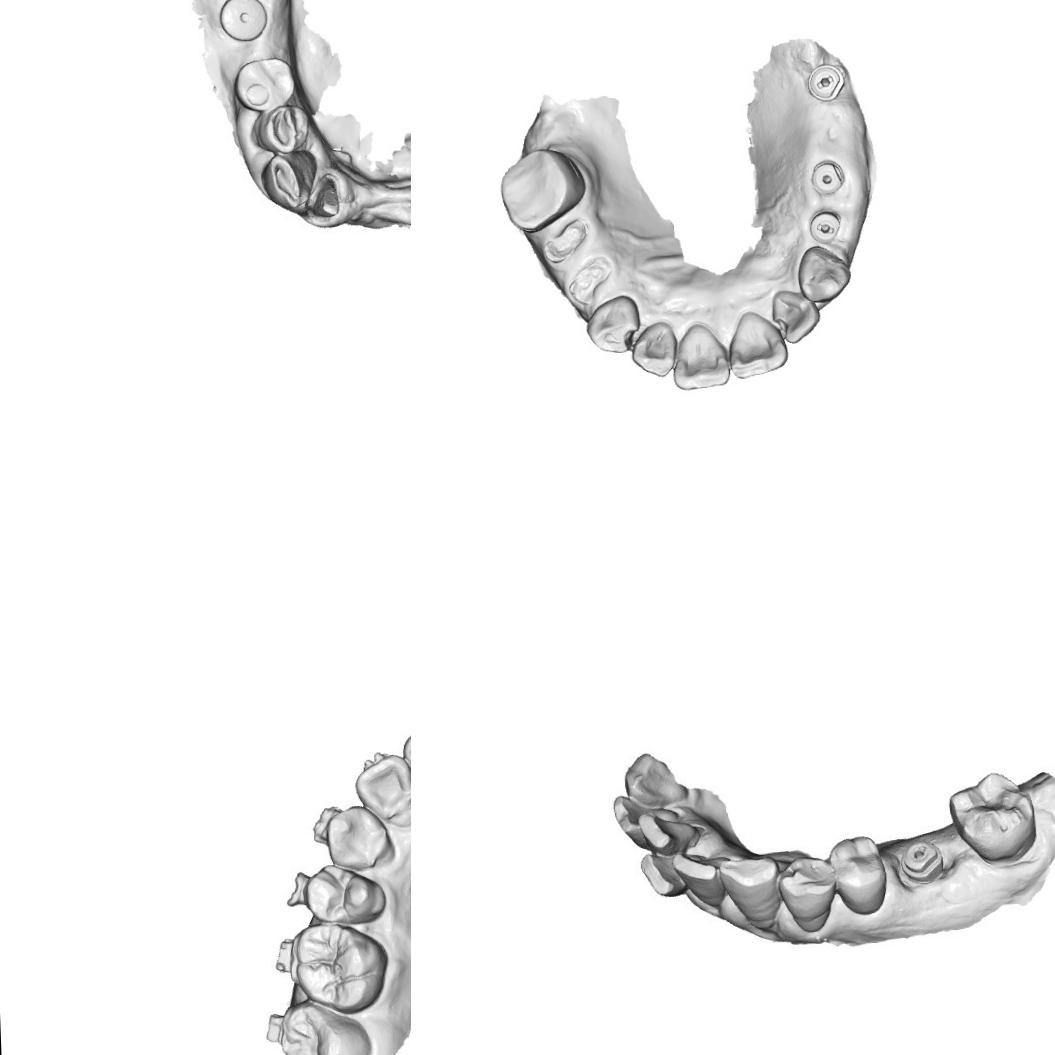canine: (718, 850, 782, 934), (322, 806, 394, 872), (622, 748, 690, 808), (584, 293, 642, 356), (796, 243, 854, 304), (260, 150, 310, 210)
crown: (310, 174, 348, 220)
implant: (219, 0, 271, 44), (808, 156, 848, 196)
implant_minus: (902, 839, 948, 888), (803, 61, 848, 104), (806, 208, 844, 246)
incisor: (725, 307, 791, 380), (670, 319, 733, 392), (359, 755, 411, 823), (770, 286, 823, 345), (678, 852, 725, 916), (630, 318, 679, 379), (638, 810, 702, 854), (634, 851, 686, 901), (610, 794, 647, 846)
molar: (286, 920, 395, 1014), (946, 768, 1040, 866), (496, 146, 588, 235), (276, 996, 378, 1055)
premolar: (306, 862, 386, 928), (772, 857, 838, 937), (832, 836, 890, 917), (236, 54, 294, 111), (255, 99, 311, 156)
